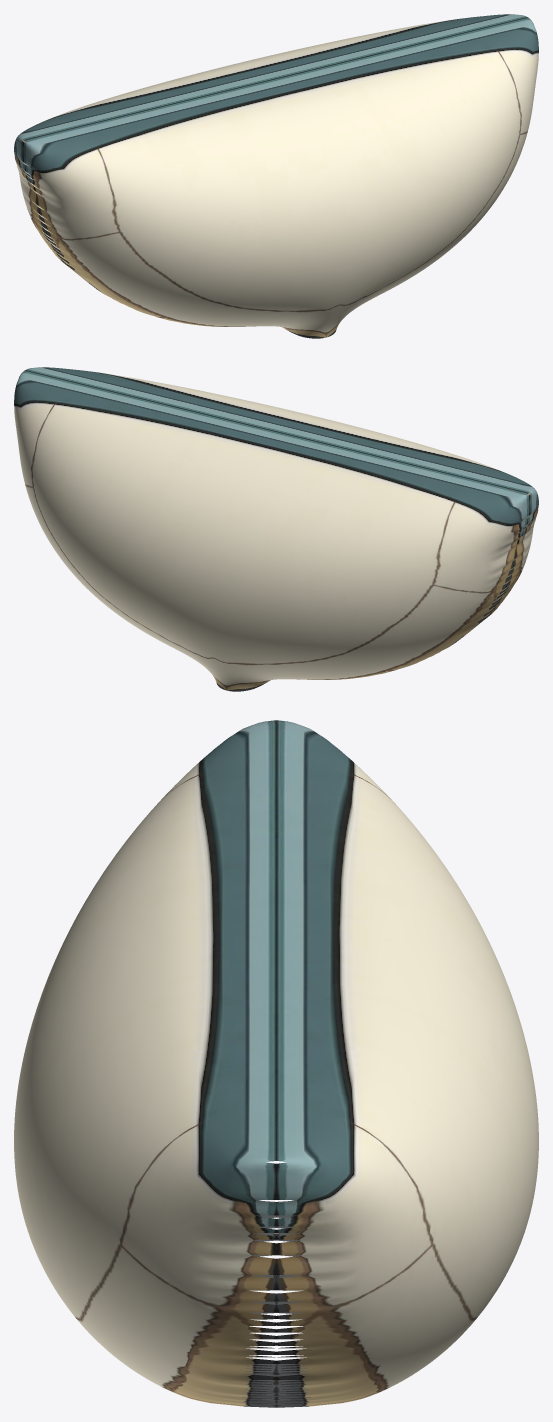
Rendered from semicircular_dais.glb.
3 views of the same model, one above another, from view 1: azimuth 30°, elevation 25°; view 2: azimuth 150°, elevation 25°; view 3: azimuth 270°, elevation 25° (orthographic). The views are drawn at different scales.
Visible parts, largest first — view 1: semicircular_dais; view 2: semicircular_dais; view 3: semicircular_dais.
Part boxes in pixels (bbox=[...]): semicircular_dais: bbox=[14, 14, 538, 338]; semicircular_dais: bbox=[14, 367, 538, 691]; semicircular_dais: bbox=[14, 720, 538, 1407].
Bounding box in the file's own units: 0.989 × 0.4171 × 0.4955.
Materials: 1 (1 with a texture image).
